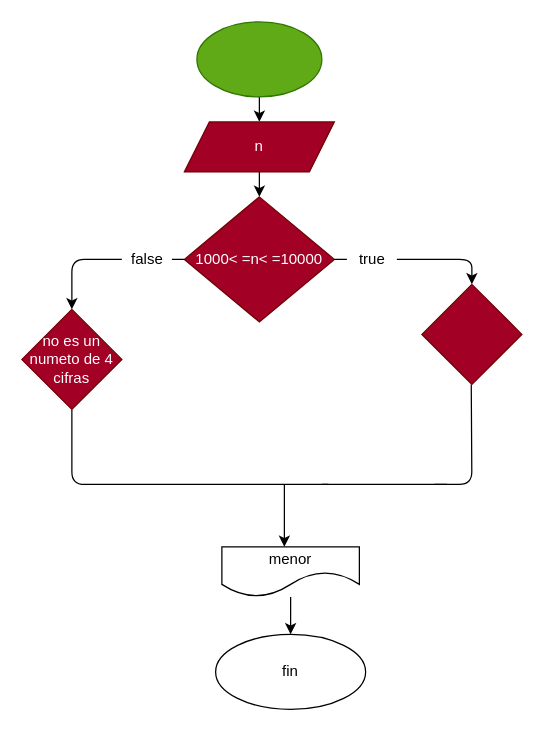
Image size: 544x731. Some labels were removed from this diagram. The centre of each missing label's shape, as x and y in pixels:
"inicio" belongs at [259,59].
"numero de 4 cicfras" belongs at [471,333].
